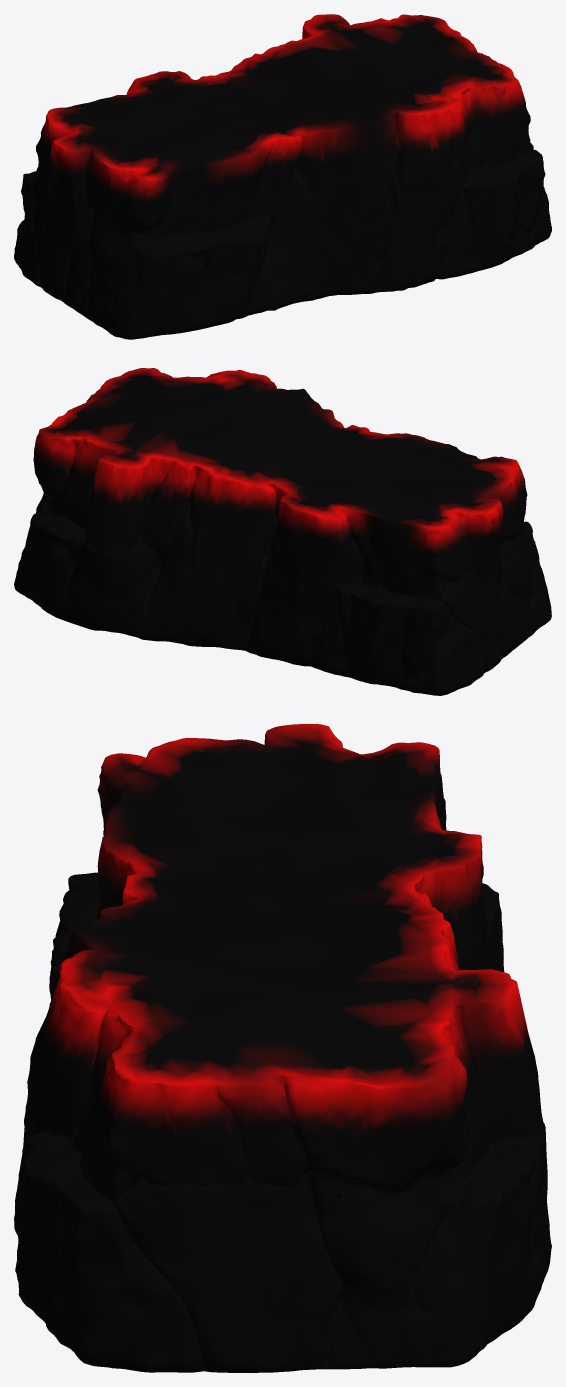
The model's file is OuterBank_09_WeatheredMassif.fbx.
The picture shows the model from 3 angles, top to bottom: view 1: azimuth 30°, elevation 25°; view 2: azimuth 150°, elevation 25°; view 3: azimuth 270°, elevation 25°; orthographic projection. The views are drawn at different scales.
Visible parts, largest first — view 1: OuterBank_09_WeatheredMassif; view 2: OuterBank_09_WeatheredMassif; view 3: OuterBank_09_WeatheredMassif.
Part boxes in pixels (x1,y1,x2,y2): OuterBank_09_WeatheredMassif: (14,14,551,339); OuterBank_09_WeatheredMassif: (14,368,551,695); OuterBank_09_WeatheredMassif: (14,724,551,1372).
Bounding box in the file's own units: 11000 × 3791 × 6417.
